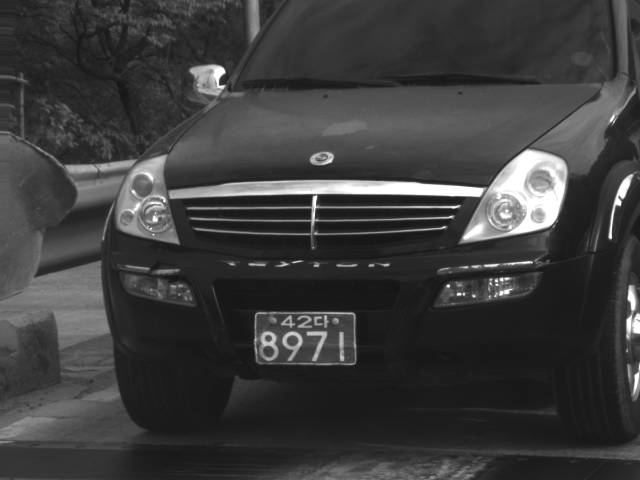car: (97, 1, 639, 445)
plate: (254, 312, 358, 365)
